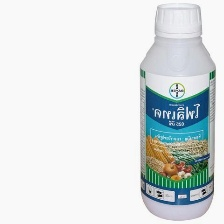insecticide: (137, 0, 216, 221)
